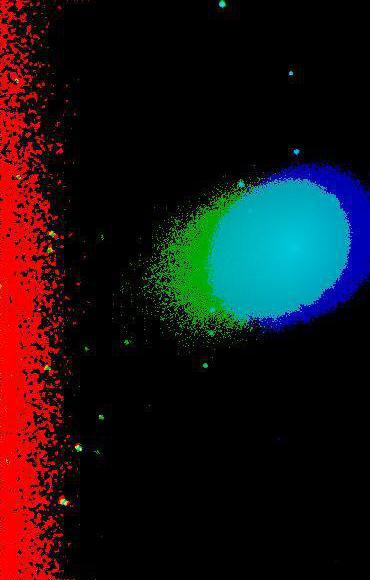star: (212, 183, 242, 213)
